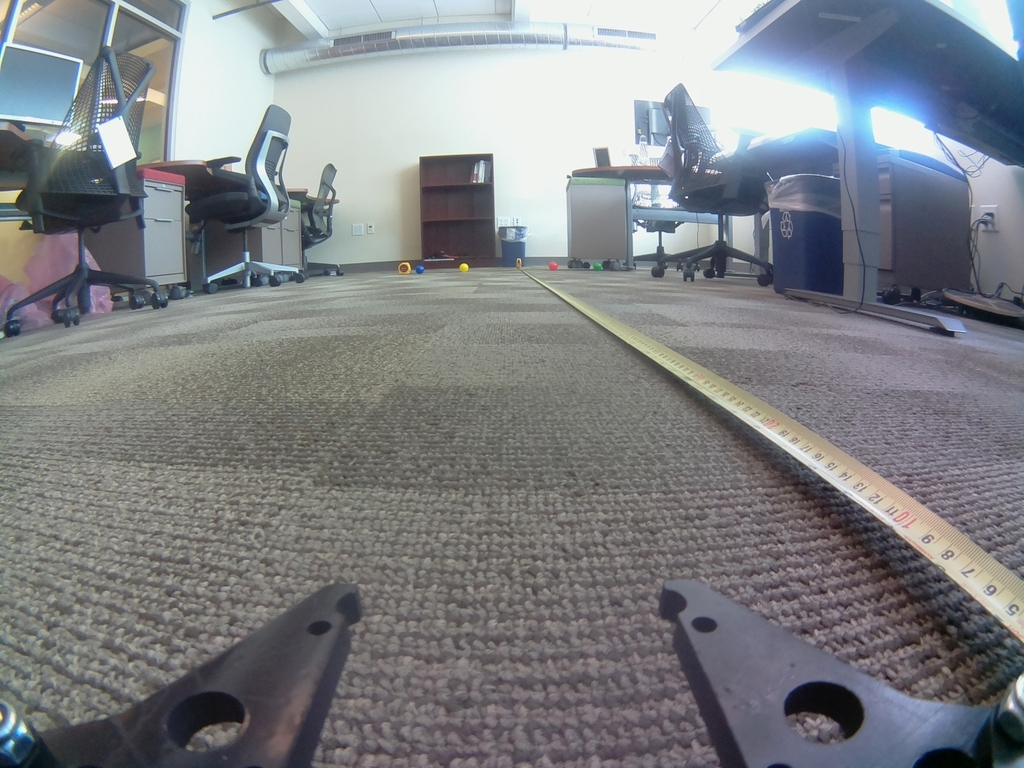ball: (414, 263, 425, 273)
